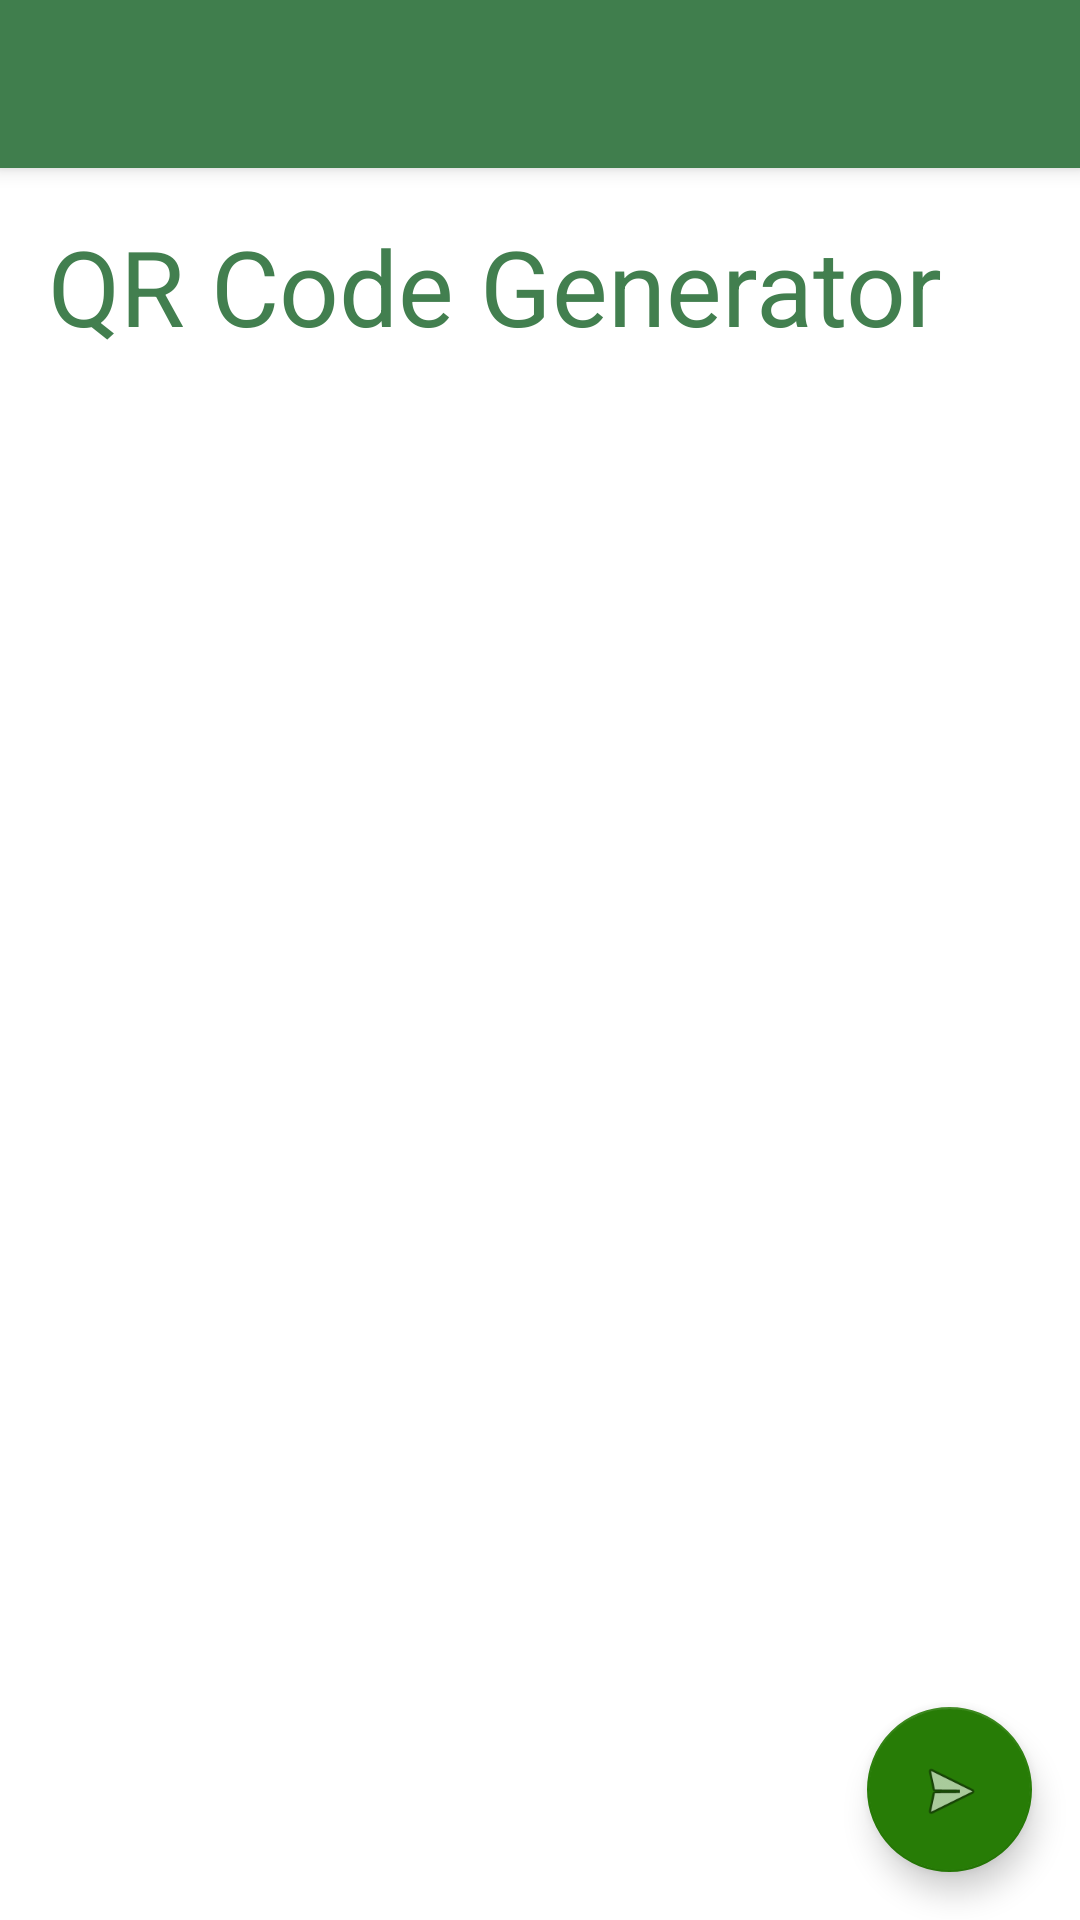

Screen size 1080 × 1920. Icon name, then its box in pixels as (x1, y1, x2, y2):
send: (867, 1707, 1032, 1872)
